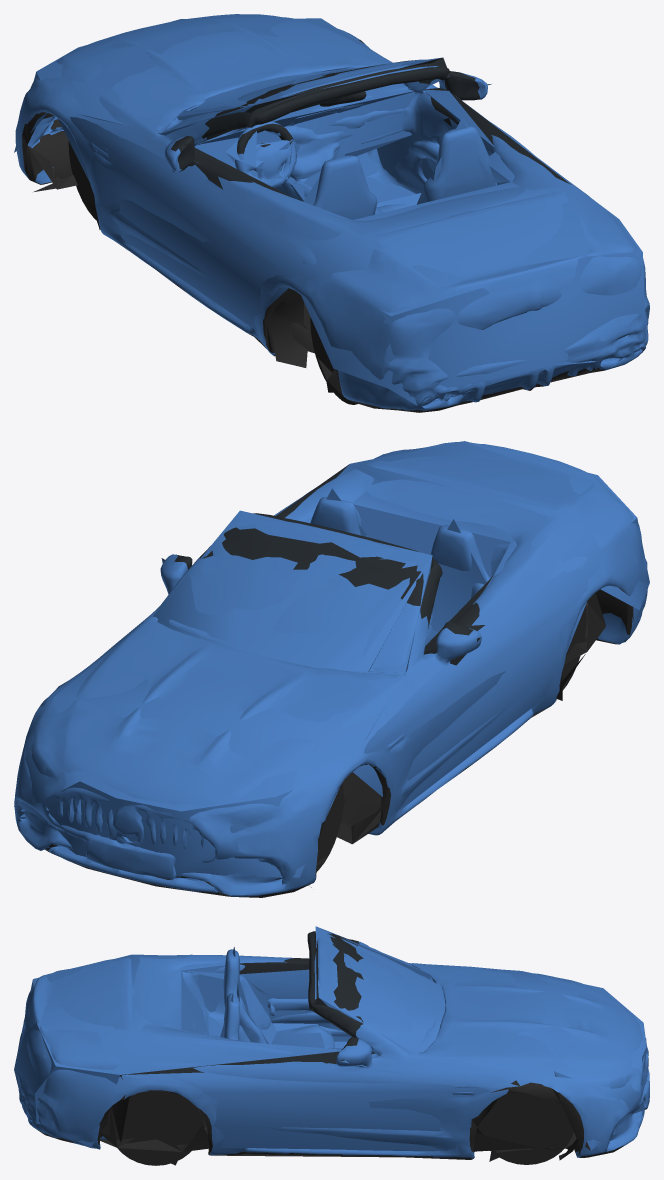
File: mercedes-benz-sl-class.glb
The picture shows the model from 3 angles, top to bottom: view 1: azimuth 30°, elevation 25°; view 2: azimuth 150°, elevation 25°; view 3: azimuth 270°, elevation 25°; orthographic projection. The views are drawn at different scales.
Visible parts, largest first — view 1: body, far; view 2: body, far; view 3: body, far.
Part boxes in pixels (x1,y1,x2,y2): body: [15, 14, 649, 412]; far: [14, 18, 648, 405]; body: [14, 442, 647, 897]; far: [14, 441, 649, 887]; body: [17, 931, 649, 1165]; far: [14, 926, 646, 1165].
Bounding box in the file's own units: 2.13 × 1.41 × 4.75.
